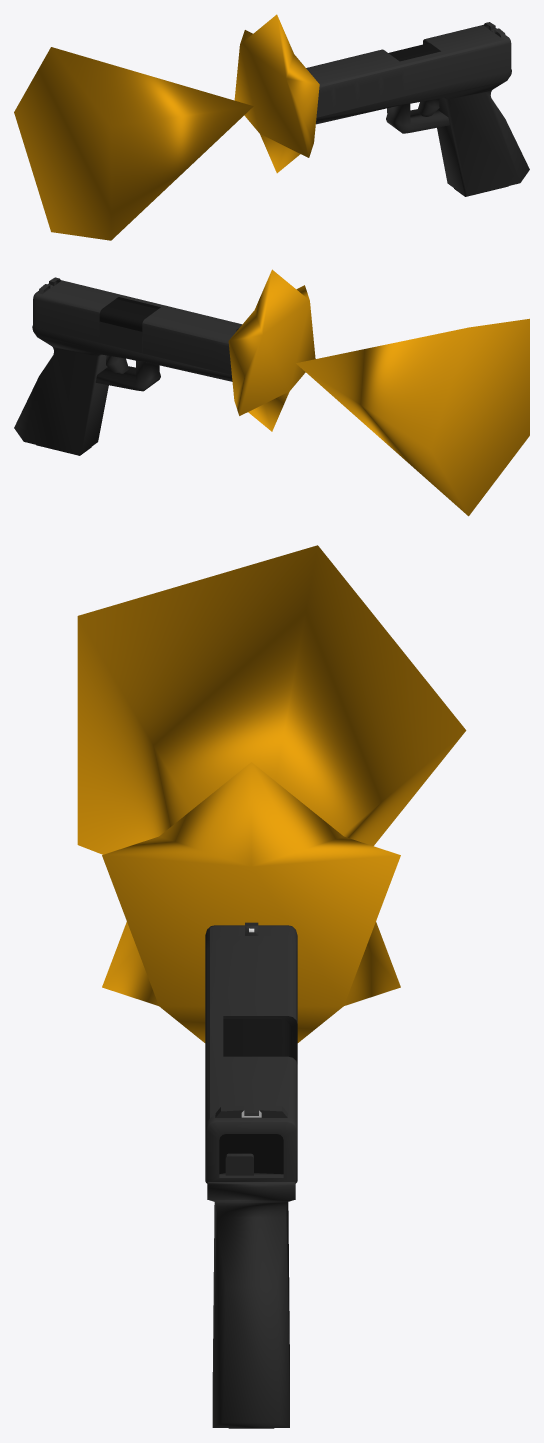
Rendered from pistol_glock.fbx.
3 renders of one model, top to bottom at view 1: azimuth 30°, elevation 25°; view 2: azimuth 150°, elevation 25°; view 3: azimuth 270°, elevation 25°, orthographic. The views are drawn at different scales.
Parts seen in each view (by area): view 1: Fire, PistolBody, PistolHead; view 2: Fire, PistolBody, PistolHead; view 3: Fire, PistolHead, PistolBody.
Boxes of the visible parts, x1,y1,x2,y2 form: Fire: (14,14,319,240); PistolBody: (316,69,529,195); PistolHead: (306,22,511,117); Fire: (228,269,529,516); PistolBody: (14,325,232,454); PistolHead: (33,277,241,374); Fire: (77,545,466,1042); PistolHead: (205,922,297,1183); PistolBody: (207,1182,295,1427).
Bounding box in the file's own units: 71.03 × 34.22 × 26.27.
